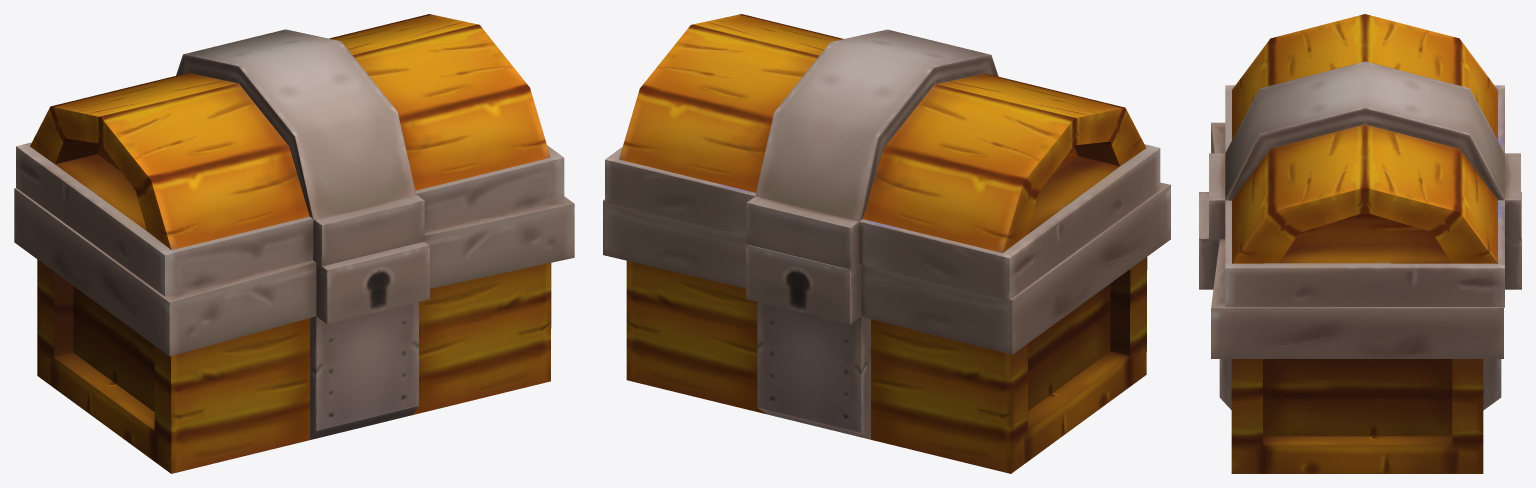
File: treasureboxfbx.FBX
The picture shows the model from 3 angles, left to right: view 1: azimuth 30°, elevation 25°; view 2: azimuth 150°, elevation 25°; view 3: azimuth 270°, elevation 25°; orthographic projection. The views are drawn at different scales.
Parts seen in each view (by area): view 1: Box001; view 2: Box001; view 3: Box001.
Part boxes in pixels (left/top/right/bottom): Box001: left=14, top=14, right=574, bottom=473; Box001: left=603, top=14, right=1170, bottom=473; Box001: left=1199, top=14, right=1521, bottom=473.
Bounding box in the file's own units: 41.26 × 30.3 × 31.3.
